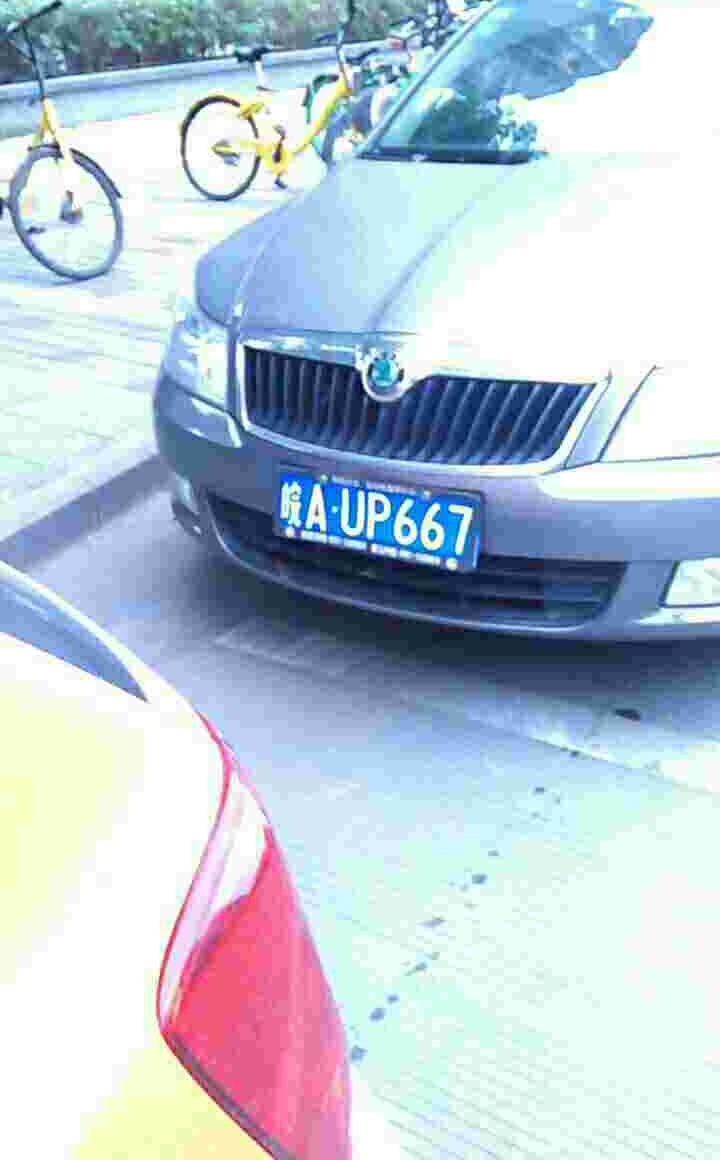car: (270, 462, 488, 572)
